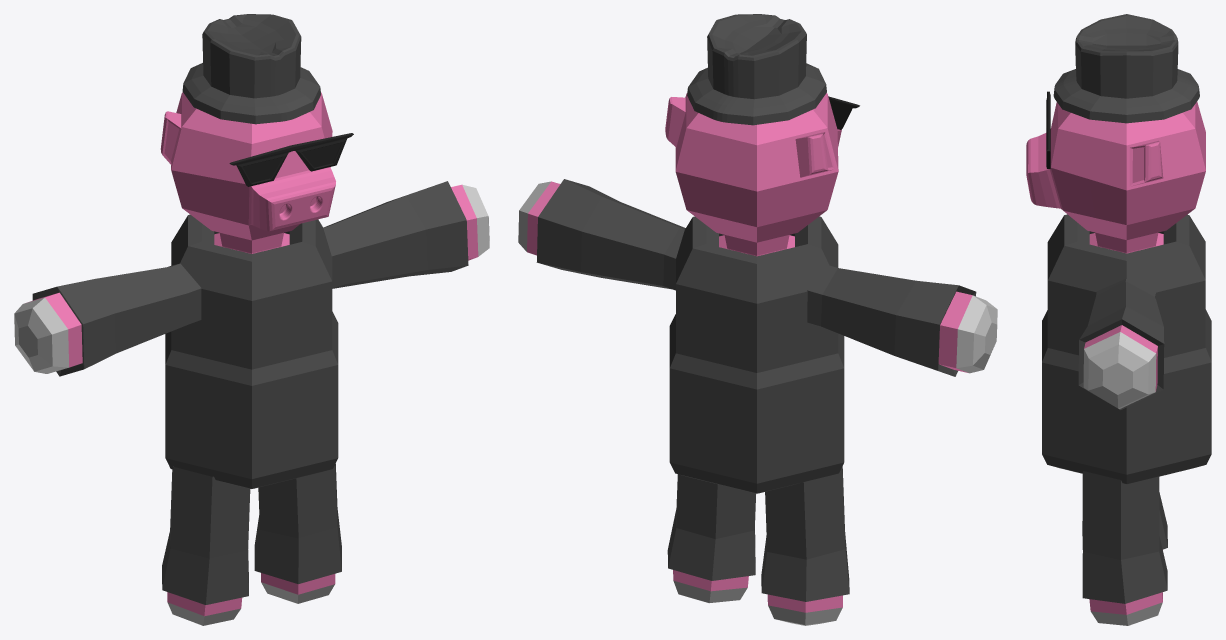
The model's file is PlayerModel.glb.
3 renders of one model, left to right at view 1: azimuth 30°, elevation 25°; view 2: azimuth 150°, elevation 25°; view 3: azimuth 270°, elevation 25°, orthographic. The views are drawn at different scales.
Parts seen in each view (by area): view 1: Pig, Arm_L, Arm_L.001, Leg_L, Hat, Leg_R, Glasses; view 2: Pig, Arm_L, Arm_L.001, Hat, Leg_L, Leg_R; view 3: Pig, Hat, Leg_R, Arm_L.001, Leg_L, Glasses.
Boxes of the visible parts, x1,y1,x2,y2 form: Pig: (160,92,338,488); Arm_L: (14,263,201,376); Arm_L.001: (323,181,489,288); Leg_L: (162,466,250,625); Hat: (182,14,320,124); Leg_R: (254,464,341,603); Glasses: (229,133,353,186); Pig: (665,93,844,493); Arm_L: (807,265,997,376); Arm_L.001: (518,179,685,290); Hat: (687,14,826,125); Leg_L: (761,466,849,625); Leg_R: (667,474,755,603); Pig: (1026,101,1211,484); Hat: (1053,14,1199,123); Leg_R: (1082,471,1167,625); Arm_L.001: (1078,279,1164,409); Leg_L: (1082,474,1167,549); Glasses: (1046,91,1050,168).
Bounding box in the file's own units: 1.82 × 2.18 × 0.6476.
